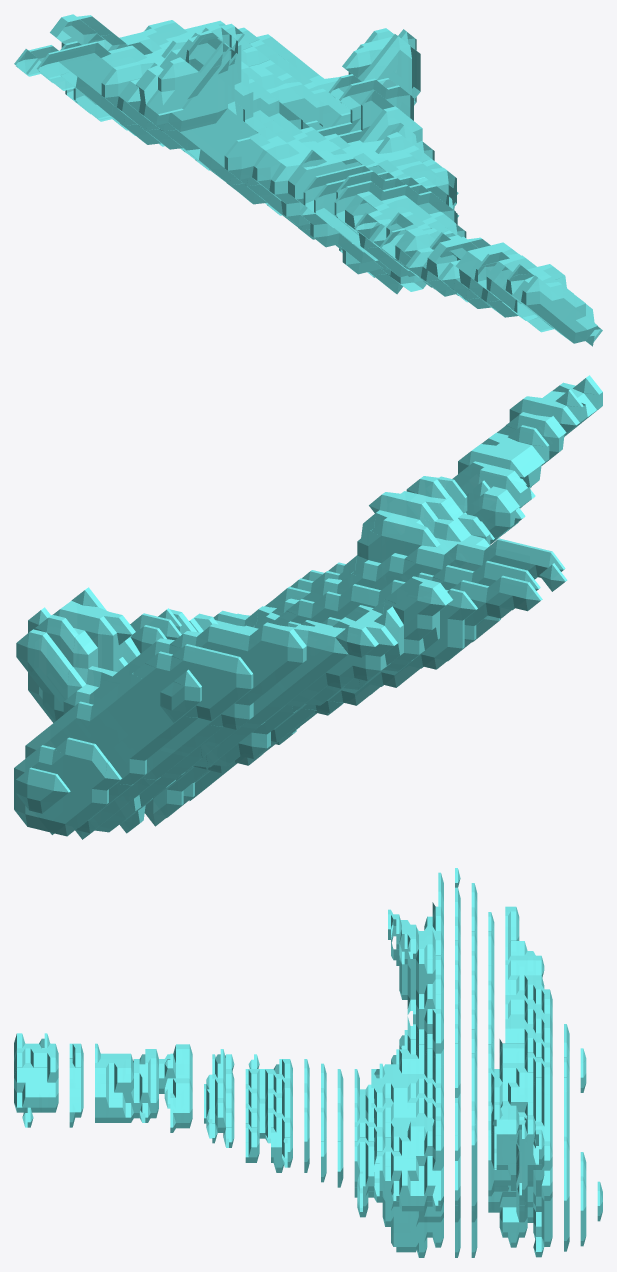
File: SVV_BWM-DR01.gltf
3 views of the same model, one above another, from view 1: azimuth 30°, elevation 25°; view 2: azimuth 150°, elevation 25°; view 3: azimuth 270°, elevation 25° (orthographic). The views are drawn at different scales.
Parts seen in each view (by area): view 1: BWM-DR01; view 2: BWM-DR01; view 3: BWM-DR01.
Boxes of the visible parts, x1,y1,x2,y2 form: BWM-DR01: (14,14,602,346); BWM-DR01: (14,375,602,839); BWM-DR01: (14,868,602,1257).
Size of the model in its own units: 18943 by 13320 by 27022.
